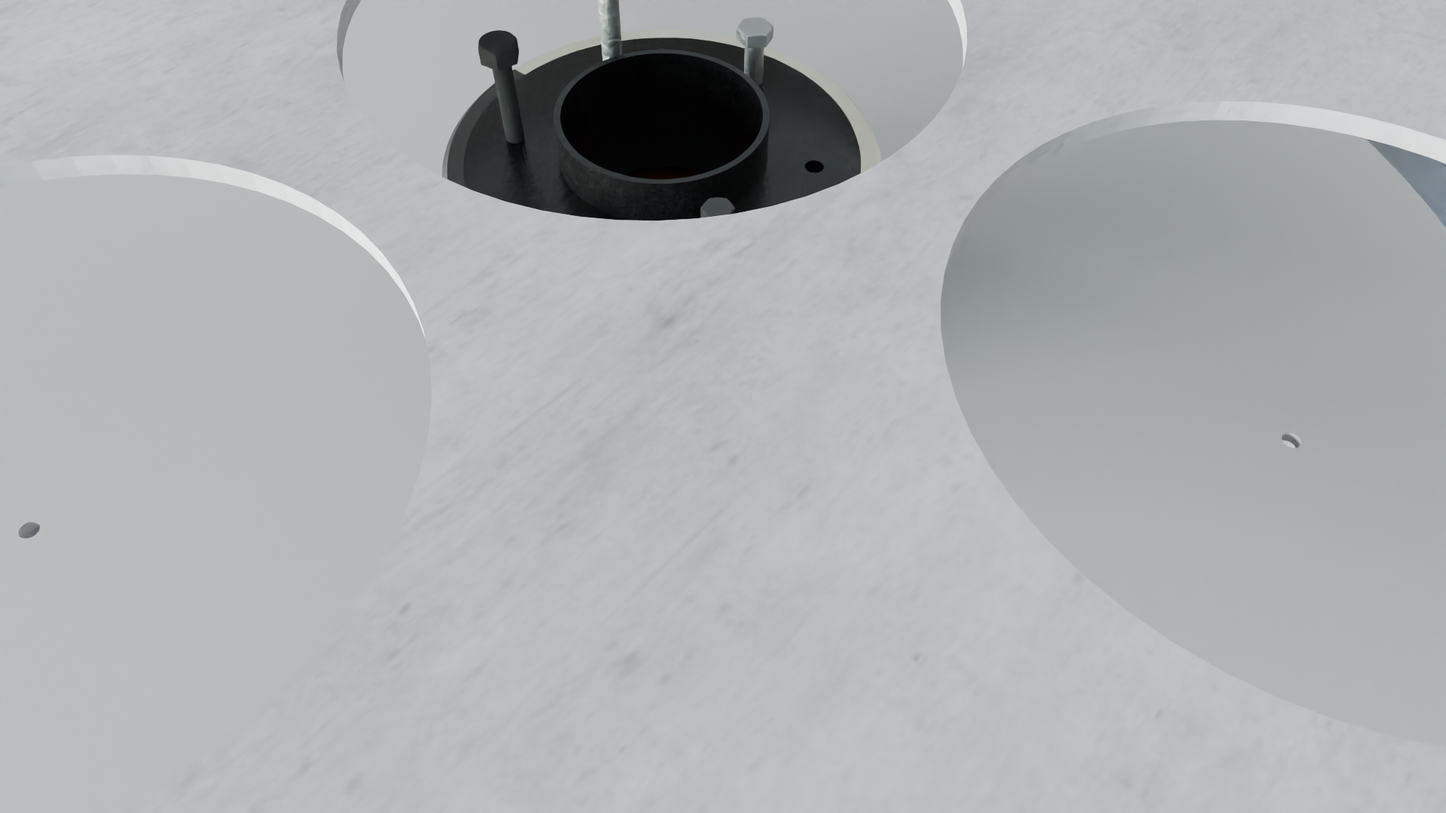bolt: (478, 30, 517, 57), (737, 17, 773, 37), (700, 197, 735, 217)
